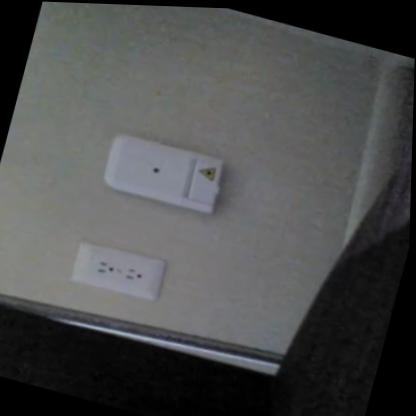OUTLET: (71, 238, 169, 303)
